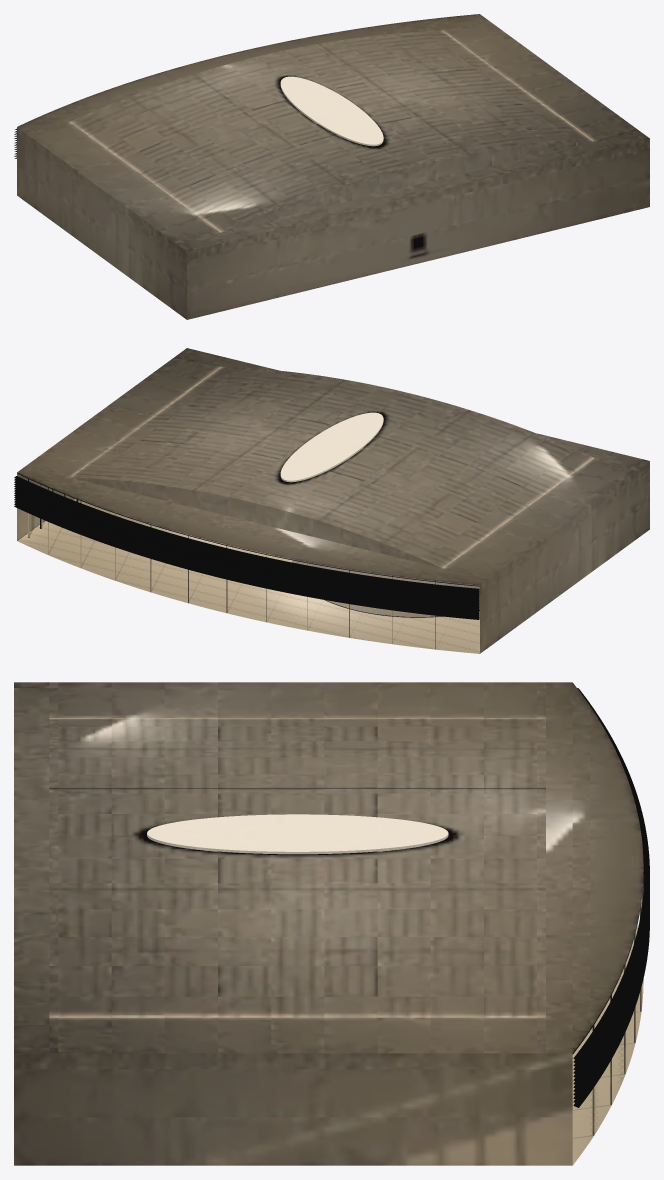
Rendered from room.glb.
3 views of the same model, one above another, from view 1: azimuth 30°, elevation 25°; view 2: azimuth 150°, elevation 25°; view 3: azimuth 270°, elevation 25° (orthographic). The views are drawn at different scales.
Visible parts, largest first — view 1: room_shell, room_glow; view 2: room_shell, room_floor, room_glow; view 3: room_shell, room_glow, room_floor.
Part boxes in pixels (x1,y1,x2,y2): room_shell: [14, 14, 649, 319]; room_glow: [280, 76, 383, 144]; room_shell: [14, 348, 649, 653]; room_floor: [17, 498, 479, 653]; room_glow: [280, 412, 433, 617]; room_shell: [14, 682, 649, 1165]; room_glow: [147, 814, 448, 851]; room_floor: [572, 925, 643, 1165].
Bounding box in the file's own units: 199 × 36.62 × 143.
5 materials, 4 textured.
